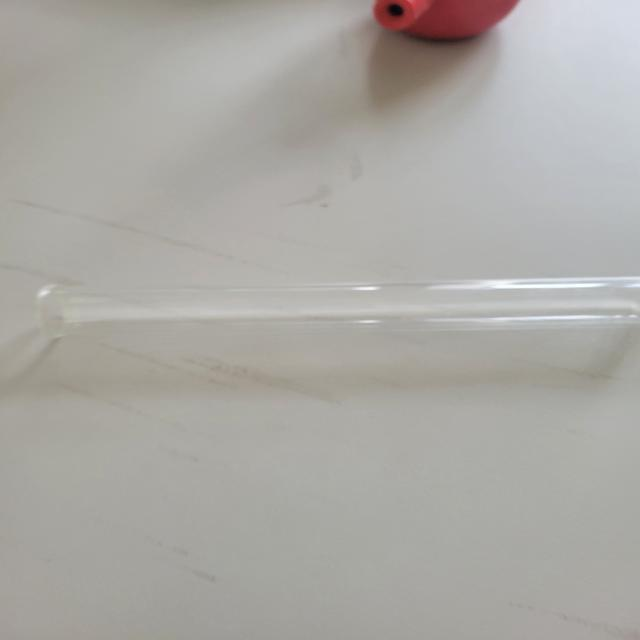Test_Tube: (23, 249, 640, 374)
